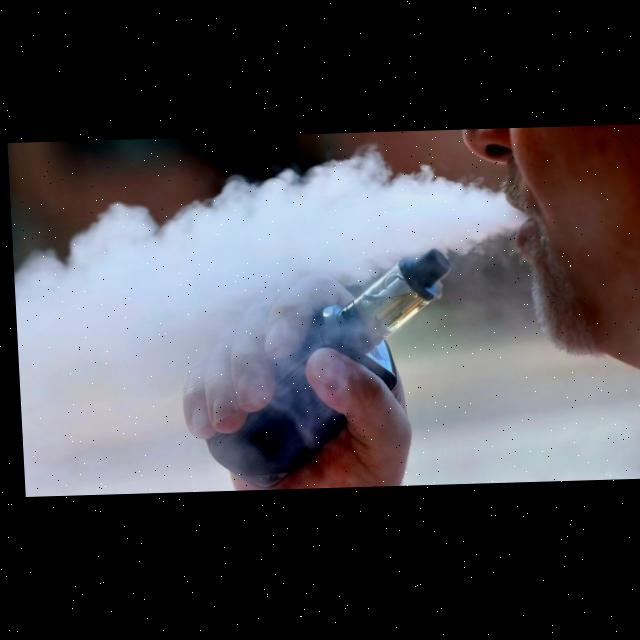vape: (194, 251, 457, 493)
